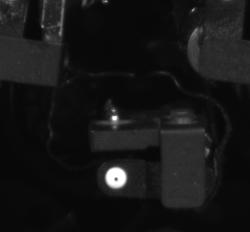fiber: (95, 160, 136, 195)
